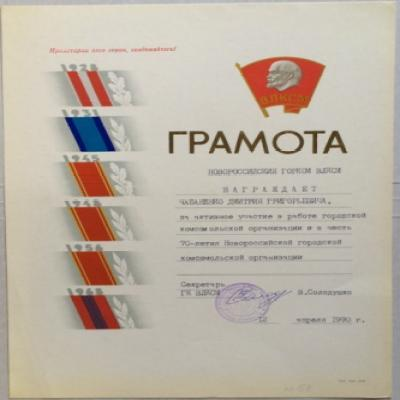document: (7, 3, 394, 398)
